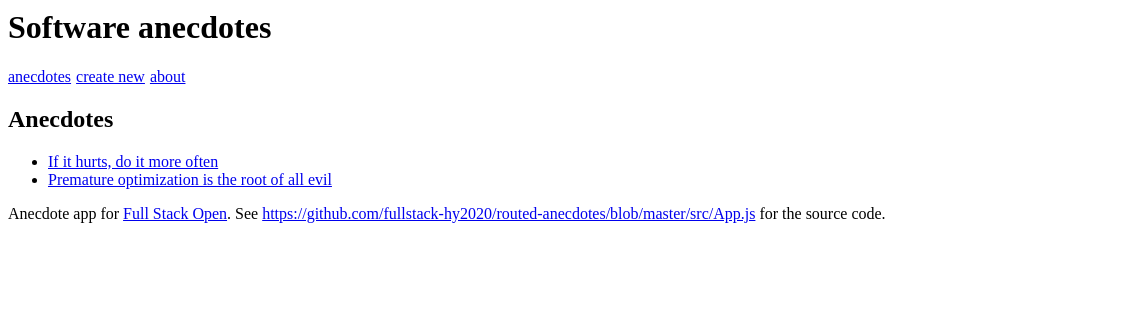
Test: Routed Anecdotes app › testing the React Router top menu › can navigate to the about section
Click the link "about".
click(171, 77)  # box 150,68 -> 191,85
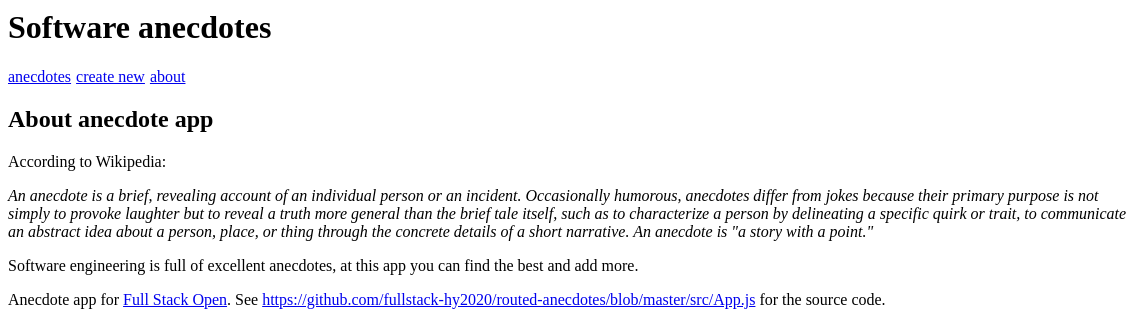
Check: the heading "About anecdote app" is shown, box 8,106 -> 213,132
Check: the text "Software engineering is full of excellent anecdotes, at this app you can find the best and add more" is shown, box 8,257 -> 638,274
